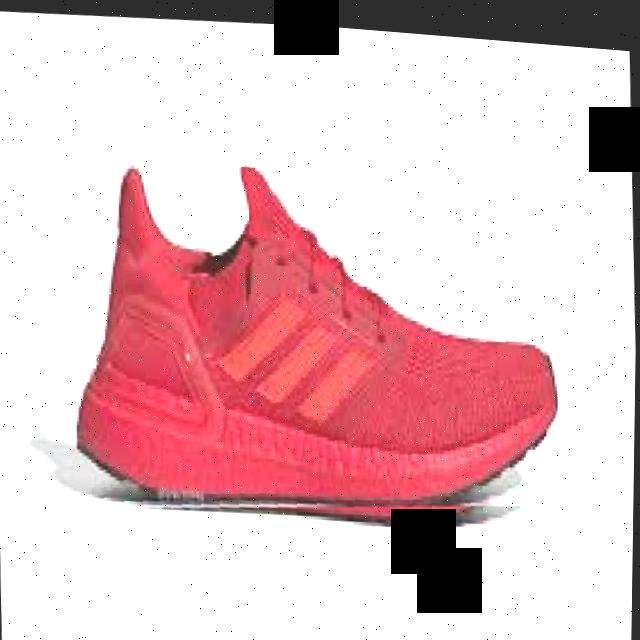shoe: (65, 140, 569, 538)
